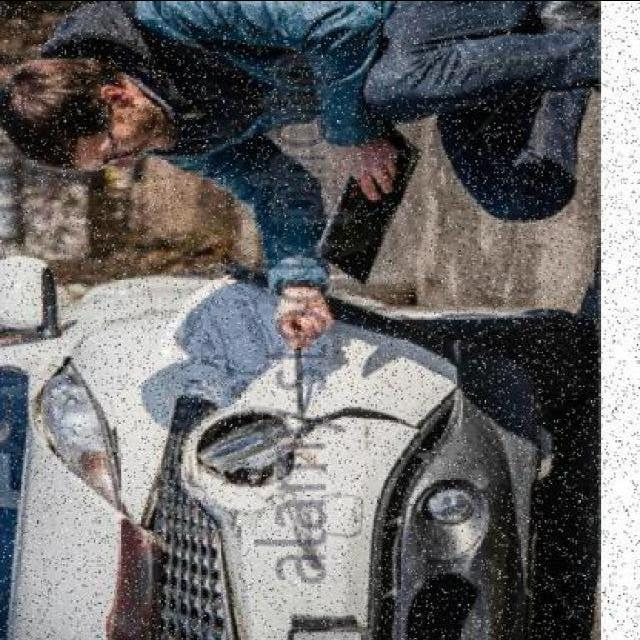front-bumper-dent: (214, 306, 465, 640)
